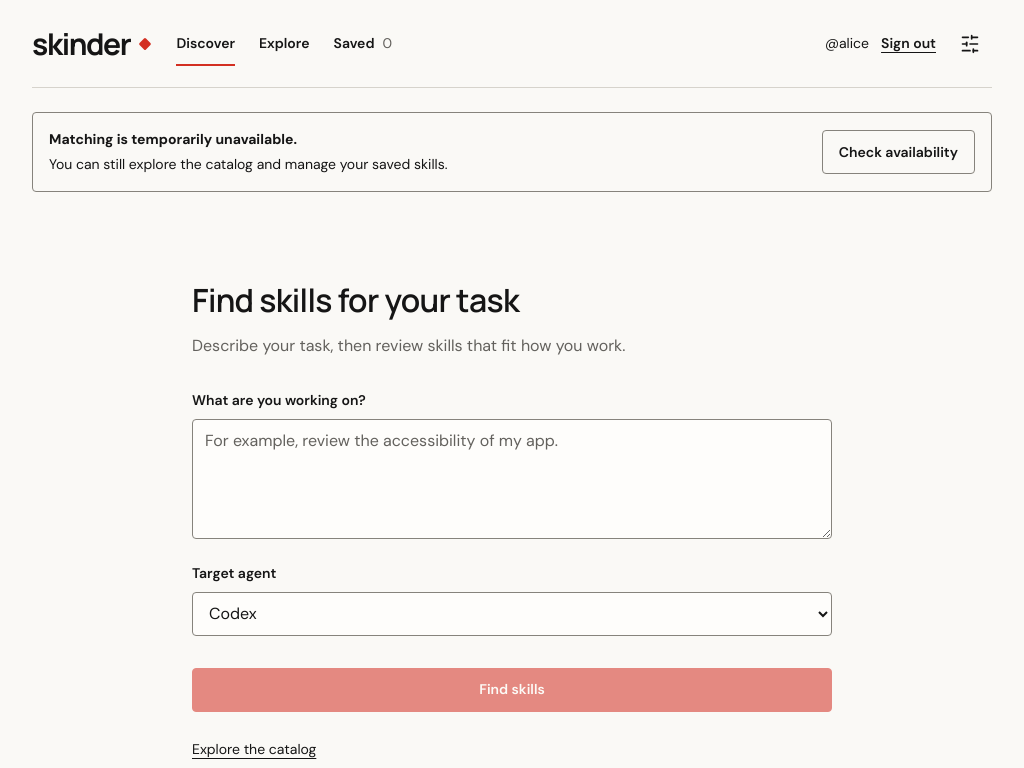
Test: skill discovery › keeps catalog bookmarks usable when matching is unavailable
The image size is (1024, 768).
Type "Build a portfolio" into the text box labelled "What are you working on?" at x=512, y=479, box [192,419,832,539]
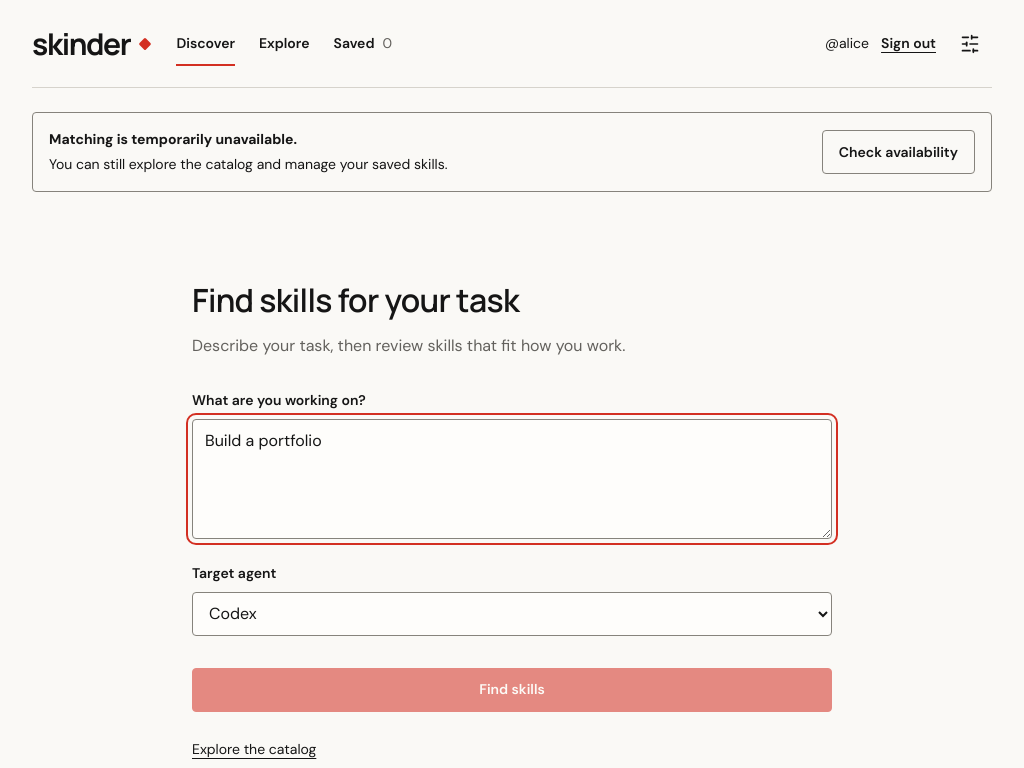
Expected: the button "Find skills" is disabled, [192,668,832,712]
Click the link "Explore" at x=284, y=43, box [259,34,310,52]
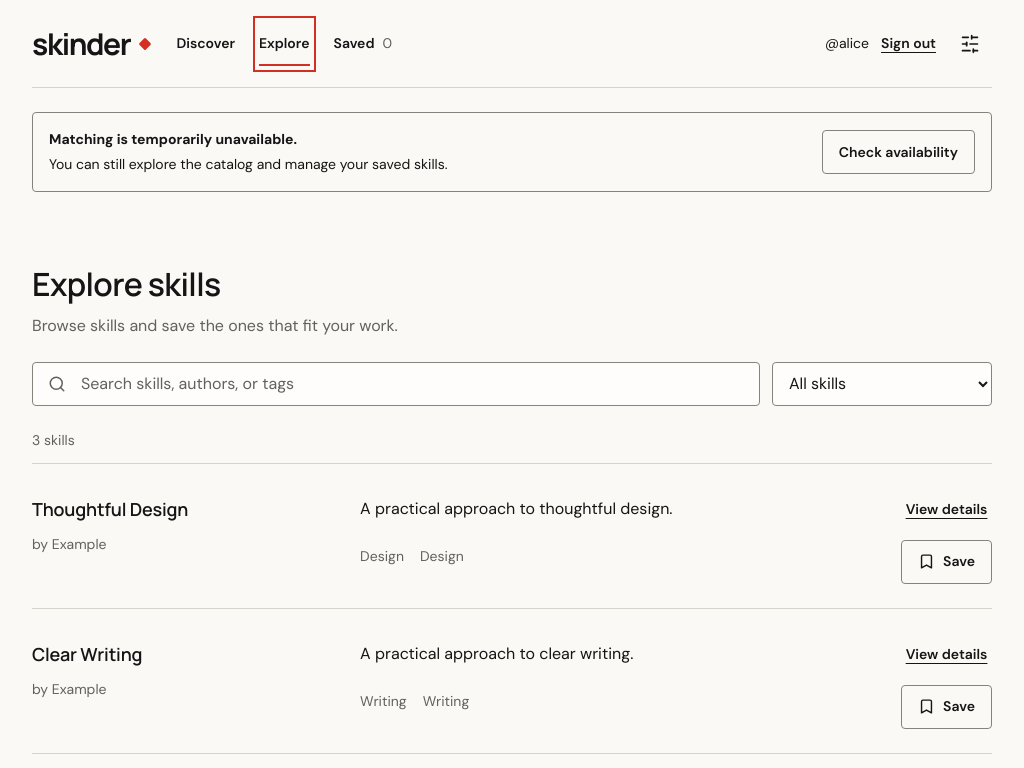
Click the button with aria-label "Save Thoughtful Design" at x=947, y=562, box [901,540,992,584]
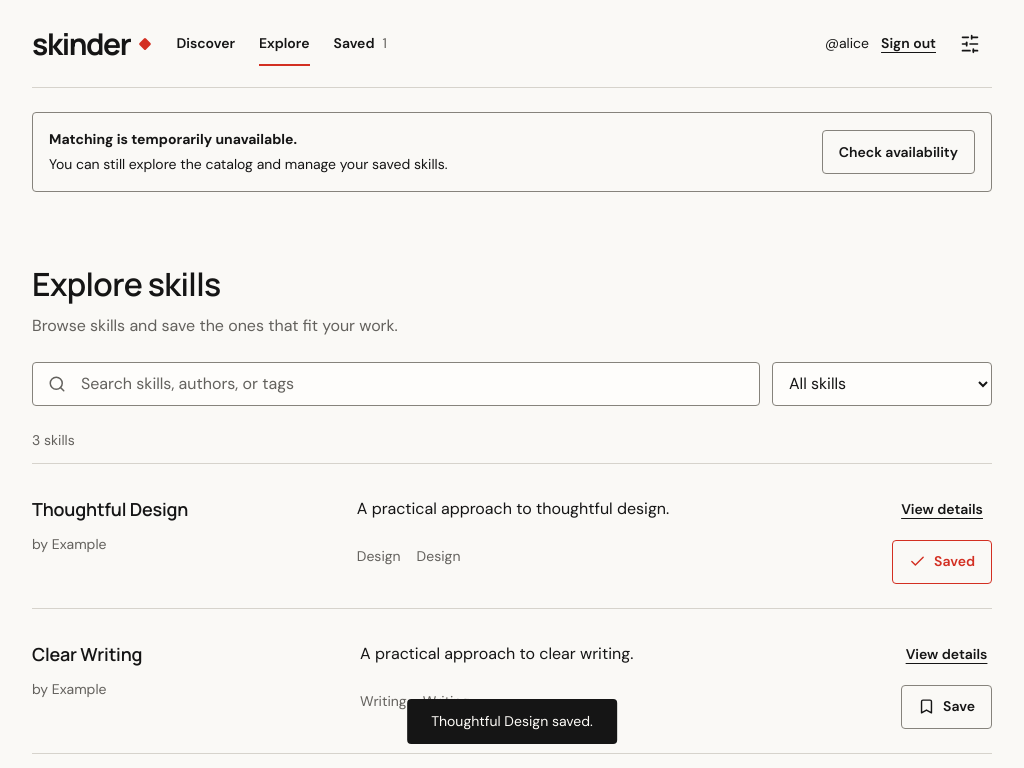
Result: the button with aria-label "Remove Thoughtful Design from saved" is shown at [892,540,992,584]
